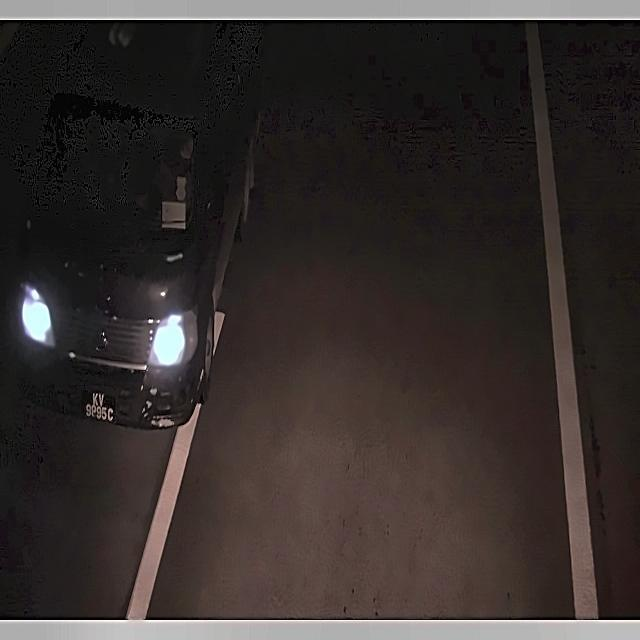car: (77, 381, 119, 426)
